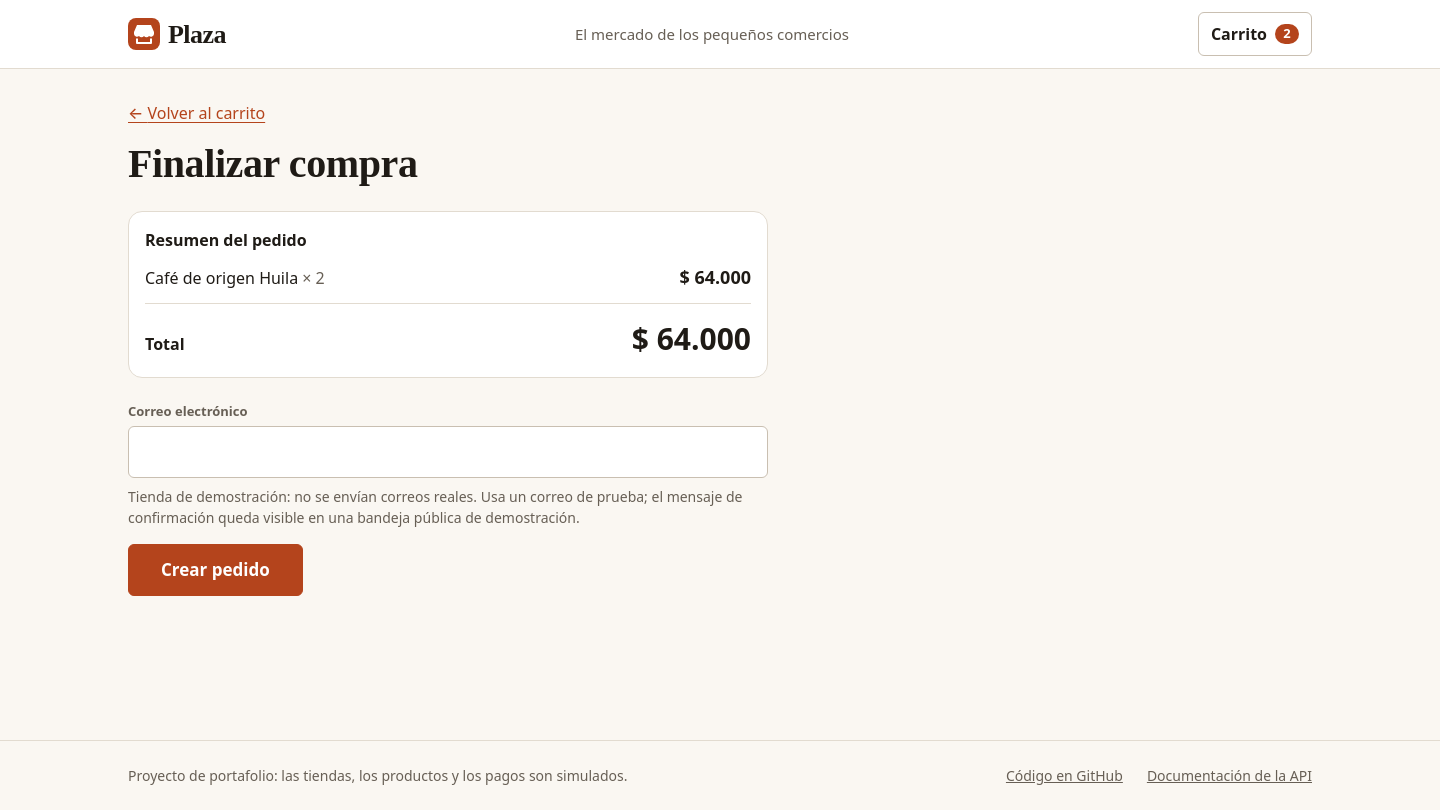
Scenario: CheckoutPage › creates the order, forgets the cart and opens the order page
The width and height of the screenshot is (1440, 810).
Type " ana@correo.co " into the field labelled "Correo electrónico". click: coordinates (448, 452)
box: x1=128 y1=426 x2=768 y2=478
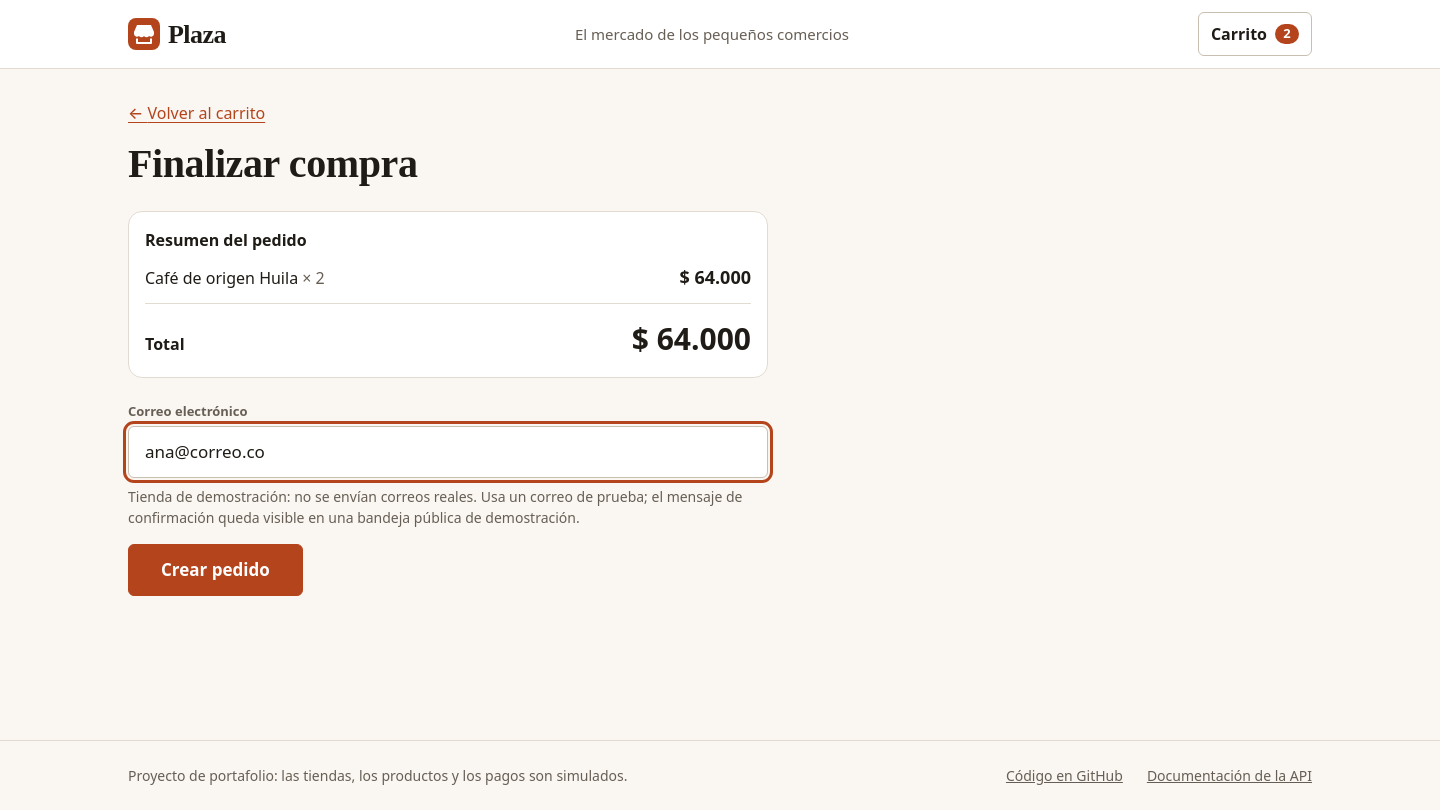
Click the button "Crear pedido". click: coordinates (215, 570)
box: x1=128 y1=544 x2=303 y2=596
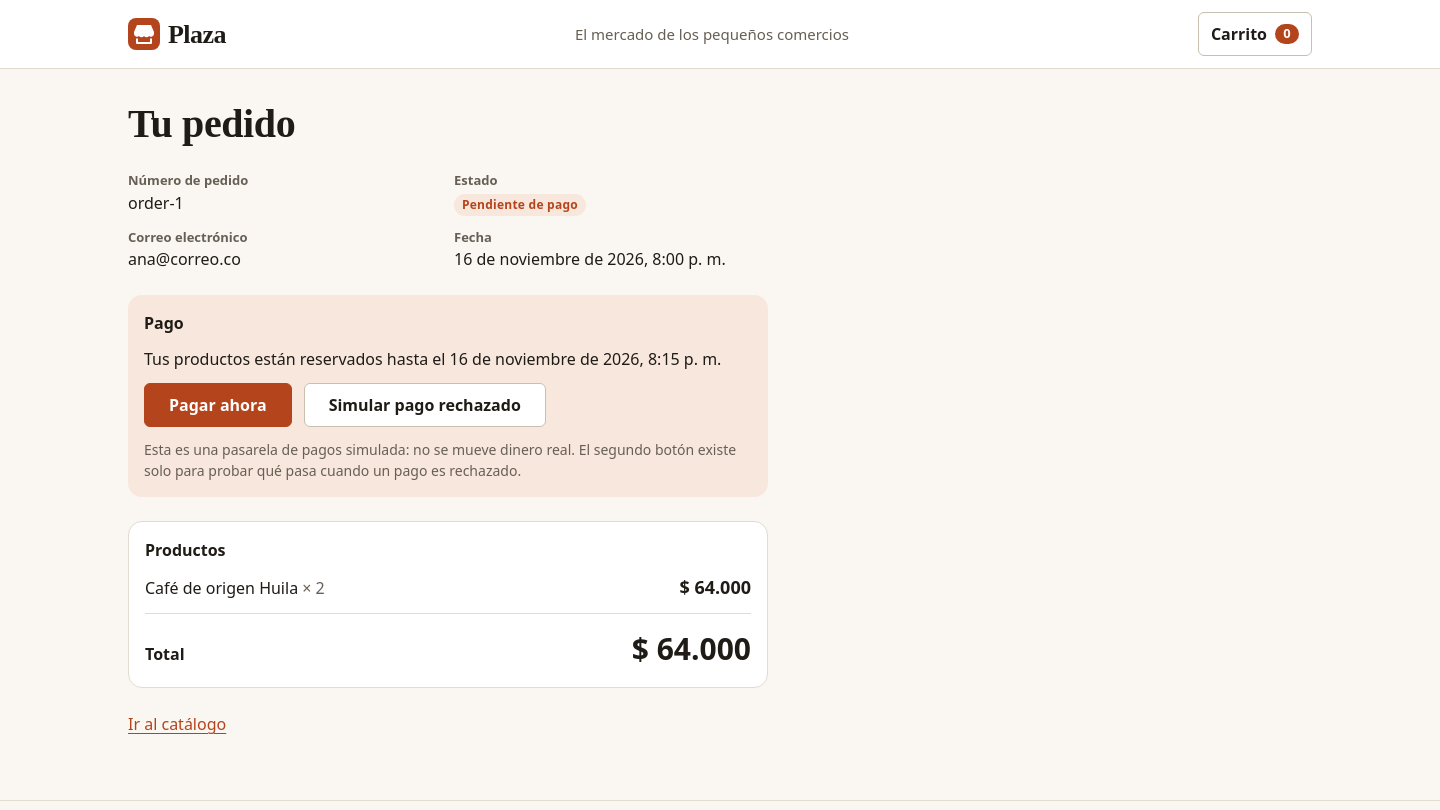
Check: the heading "Tu pedido" is shown, box x1=128 y1=101 x2=295 y2=146
Check: the link with aria-label "Carrito, 0 unidades" is shown, box x1=1198 y1=12 x2=1312 y2=56
